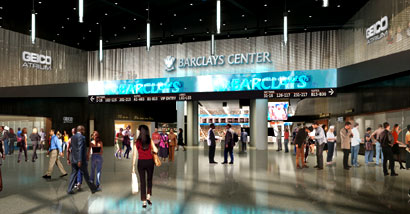Geico: (20, 49, 58, 72), (361, 16, 396, 40)
